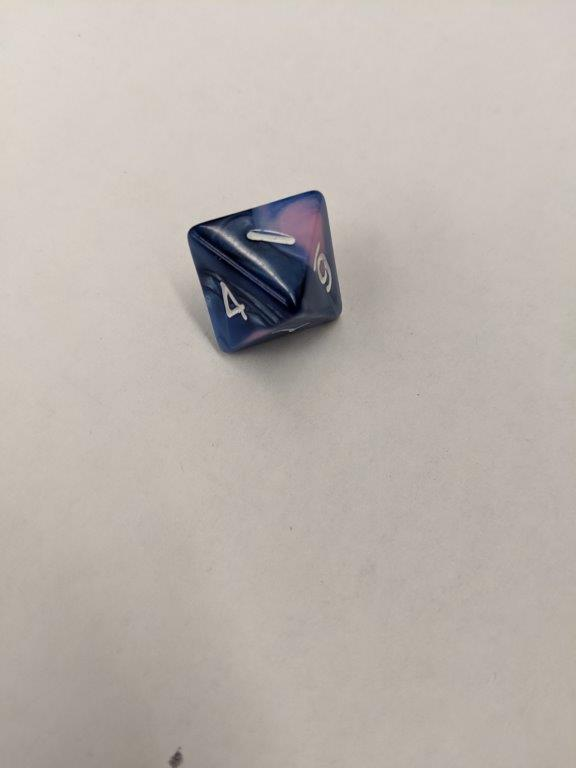d8-1: (185, 189, 347, 357)
